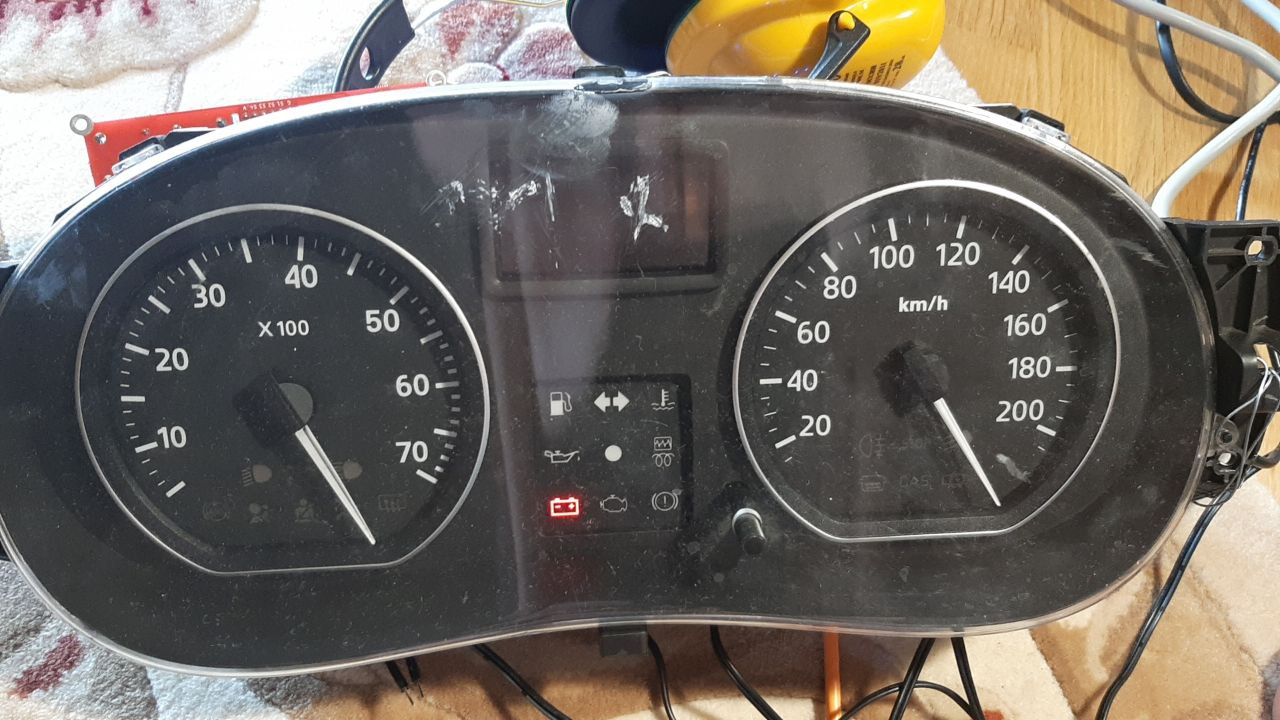accumulator: (544, 493, 584, 522)
